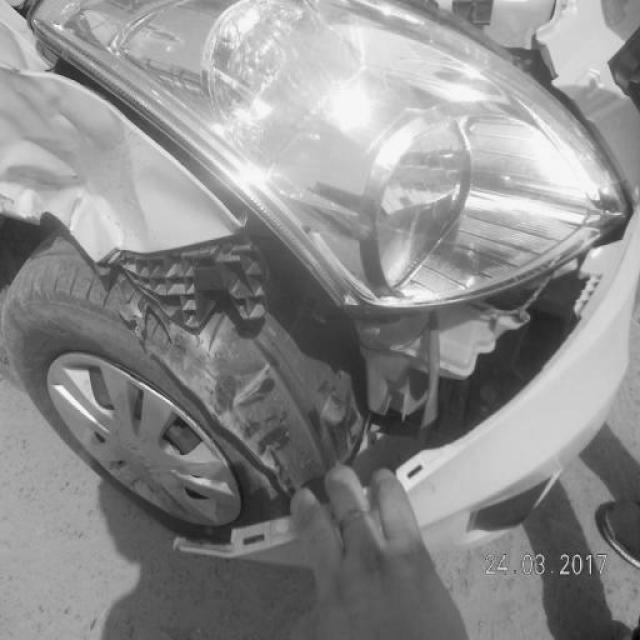car damage: (0, 92, 262, 114)
